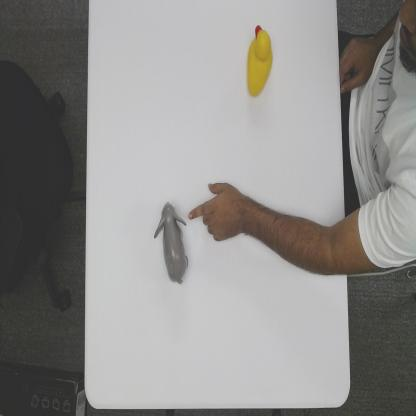Arm: (244, 191, 344, 279)
Duck: (245, 22, 275, 100)
Elephant: (153, 201, 190, 287)
Hand: (189, 180, 243, 244)
